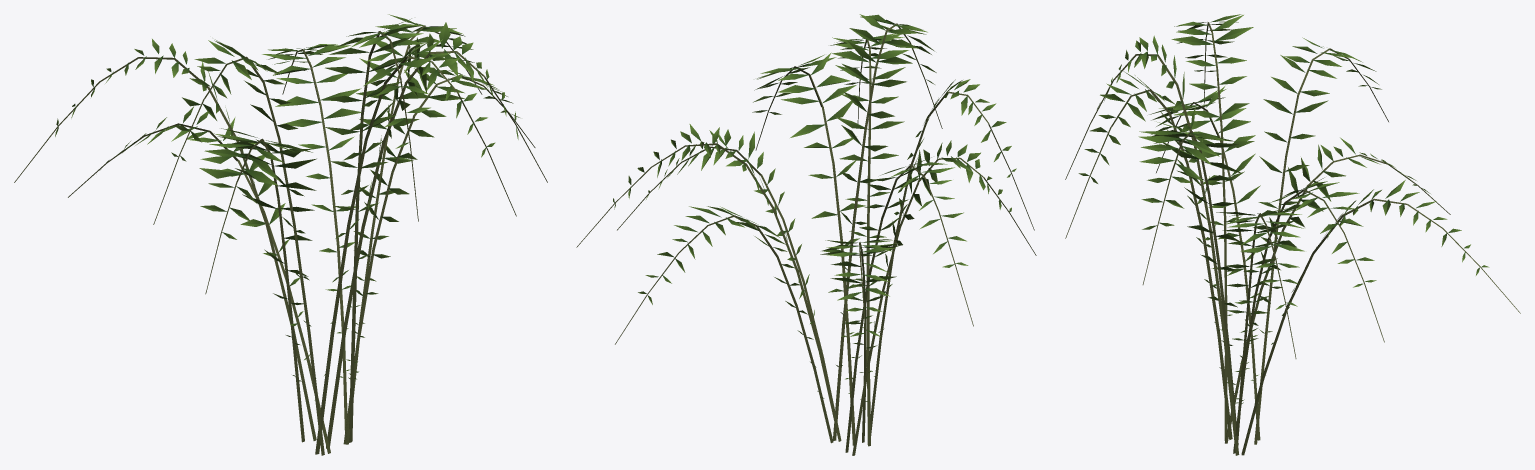
File: forest_fern_001_b_LOD2.gltf
3 renders of one model, left to right at view 1: azimuth 30°, elevation 25°; view 2: azimuth 150°, elevation 25°; view 3: azimuth 270°, elevation 25°, orthographic. The views are drawn at different scales.
Parts seen in each view (by area): view 1: forest_fern_001_b_LOD2; view 2: forest_fern_001_b_LOD2; view 3: forest_fern_001_b_LOD2.
Boxes of the visible parts, x1,y1,x2,y2 form: forest_fern_001_b_LOD2: (14, 14, 547, 455); forest_fern_001_b_LOD2: (576, 14, 1036, 455); forest_fern_001_b_LOD2: (1065, 14, 1520, 455).
Size of the model in its own units: 2.54 by 2.36 by 2.43.
1 material, 1 textured.
